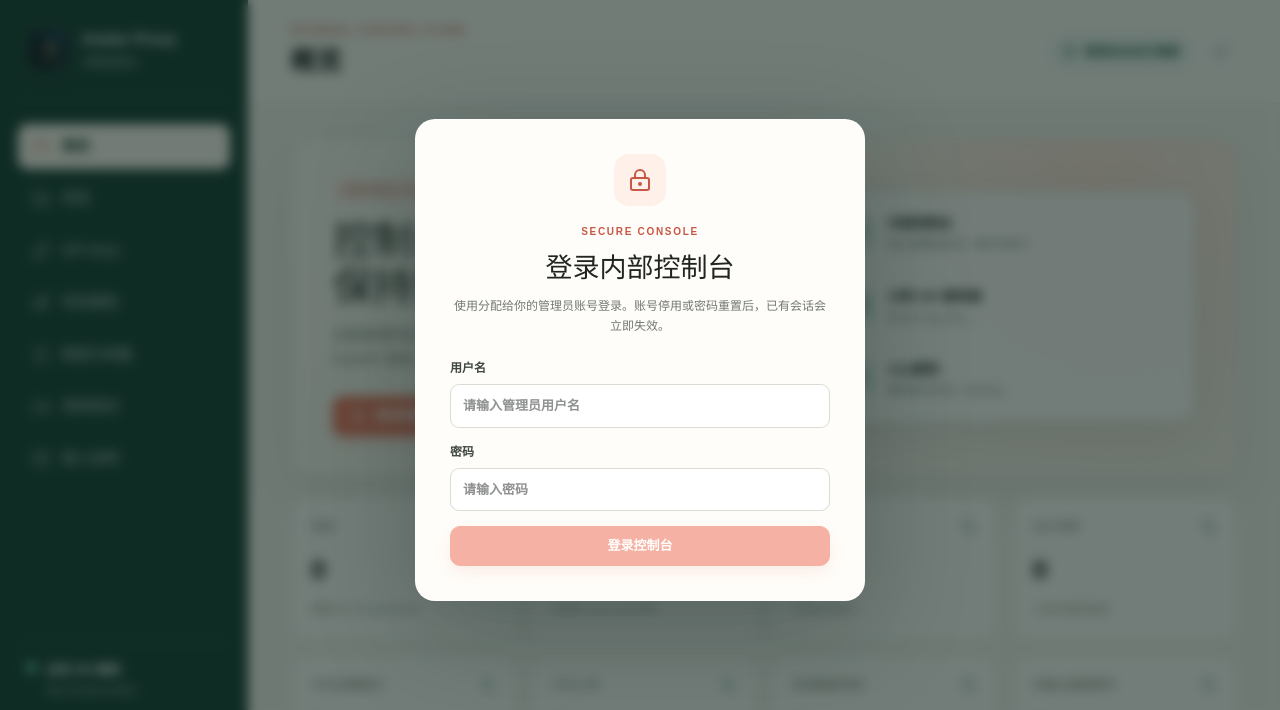
内部控制台 › 项目存在 API Key 时禁止确认删除
The image size is (1280, 710).
Expected: the heading "登录内部控制台" is shown, [546,253,734,283]
Type "owner" into the field labelled "用户名" at (640, 406), box [450,384,830,428]
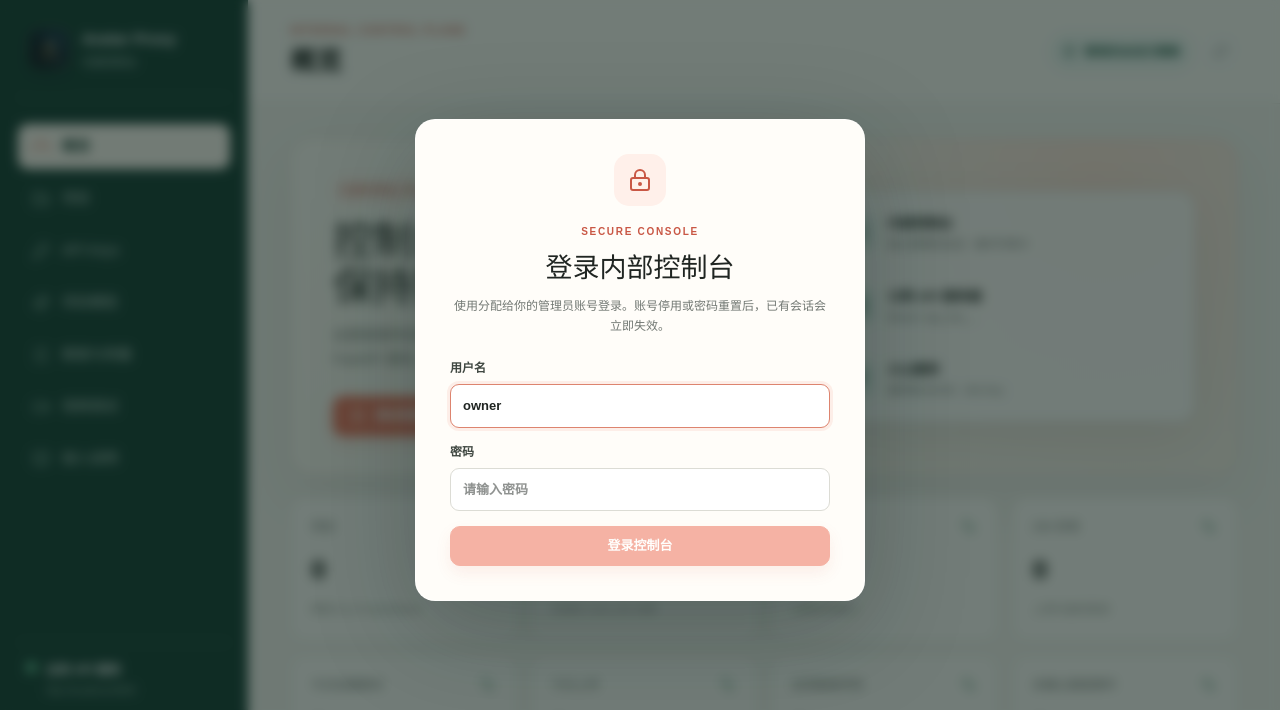
Type "correct-password" into the password field labelled "密码" at (640, 489), box [450,468,830,511]
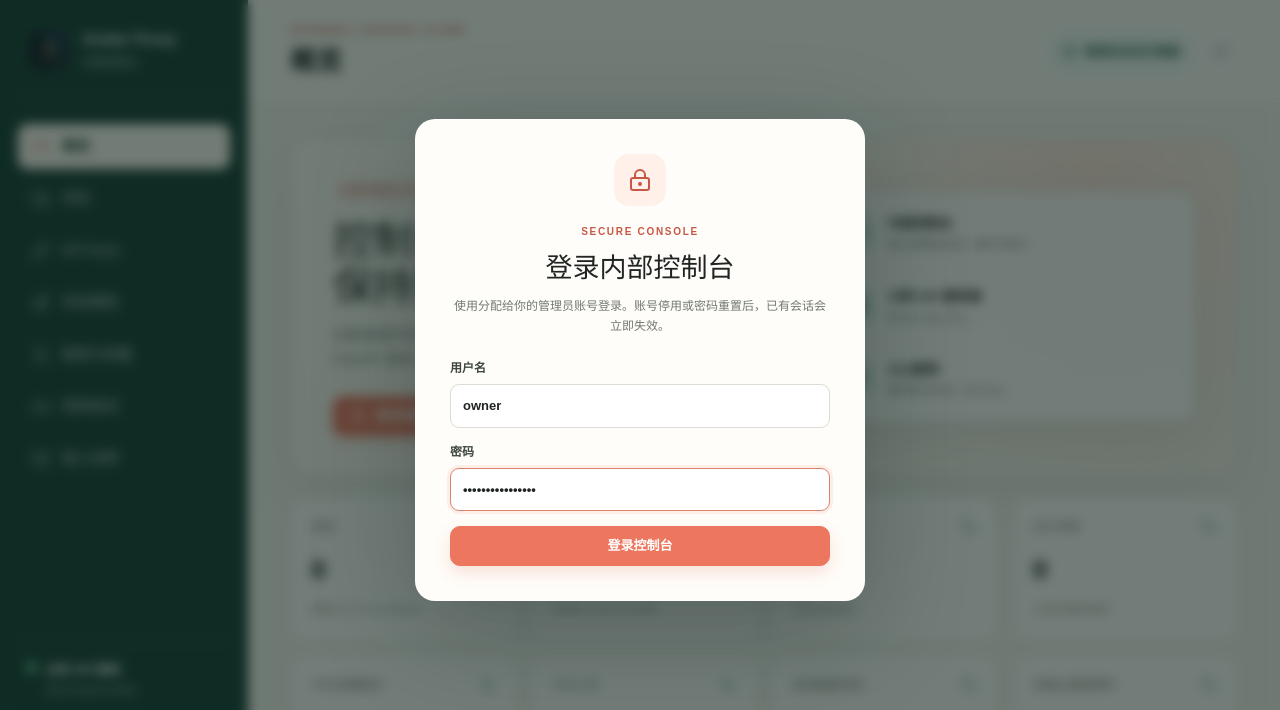
Click the button "登录控制台" at (640, 546), box [450,526,830,566]
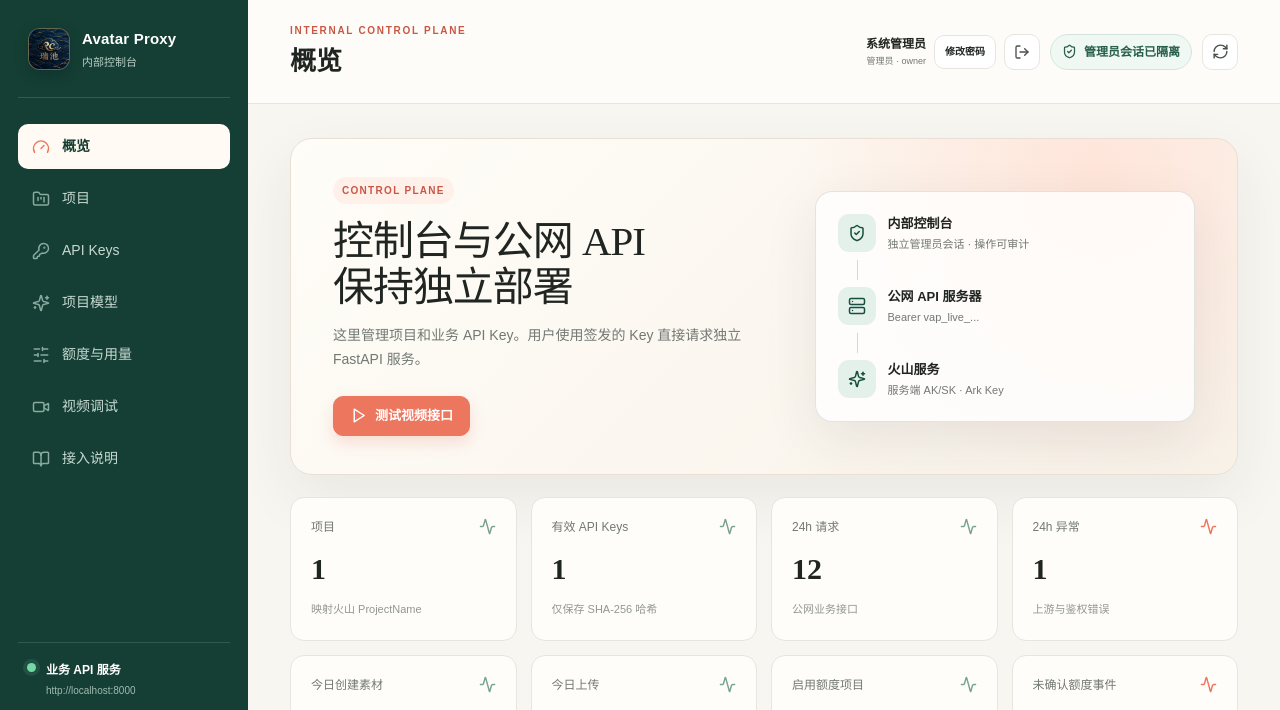
Expected: the heading "登录内部控制台" is gone
Click the button "项目" at (124, 198), box [18,176,230,221]
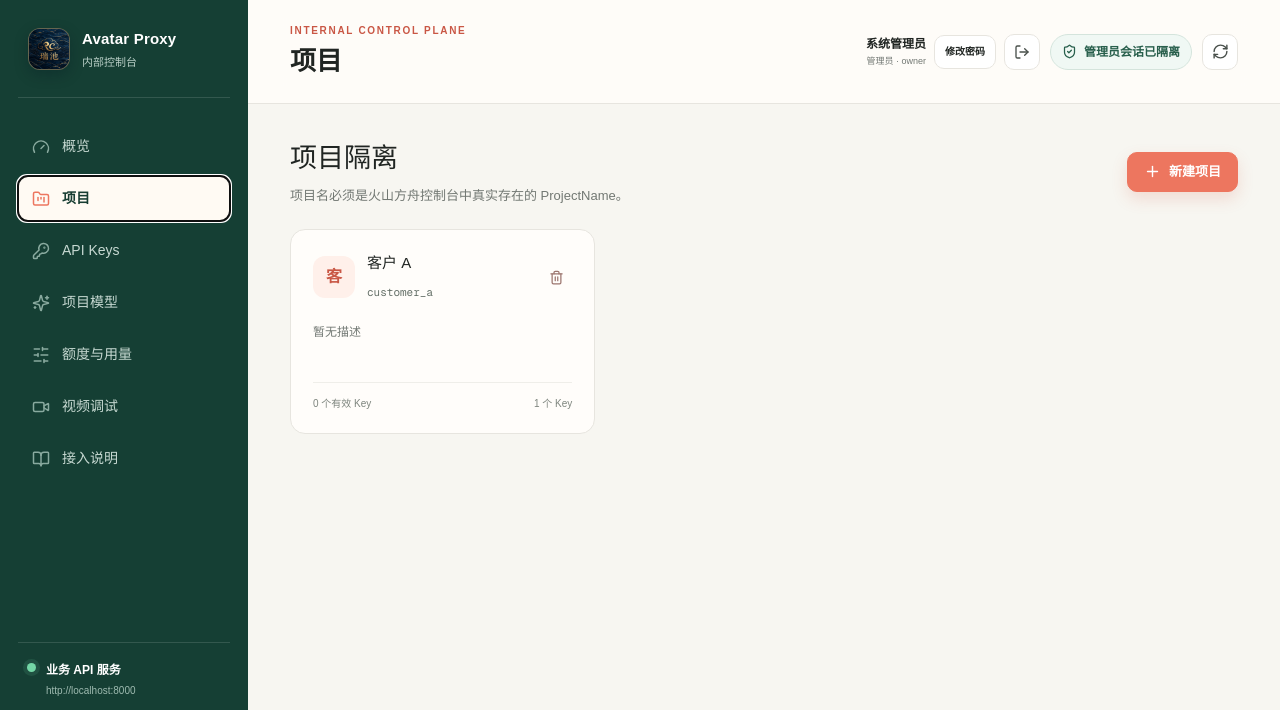
Click the button named "删除项目 客户 A" at (556, 277), box [540,261,572,293]
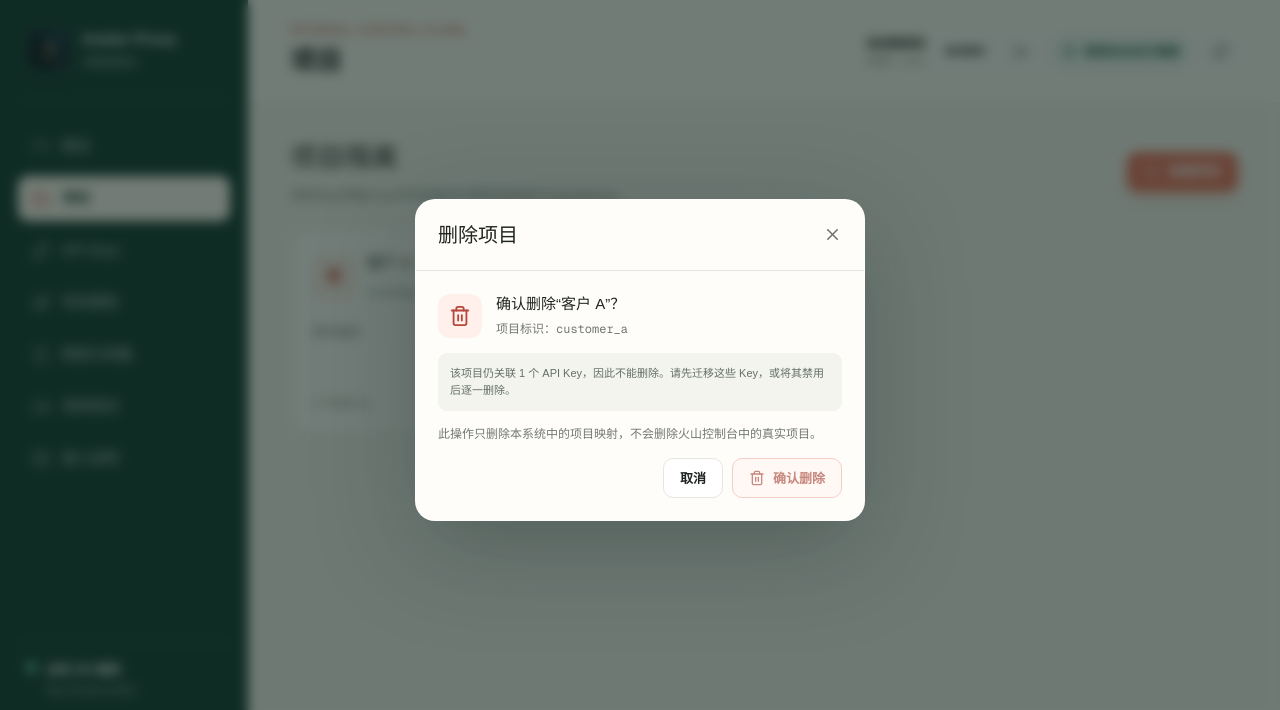
Expected: the text "该项目仍关联 1 个 API Key，因此不能删除。" is shown, [438,353,842,411]
Expected: the button "确认删除" is disabled, [732,458,842,498]
